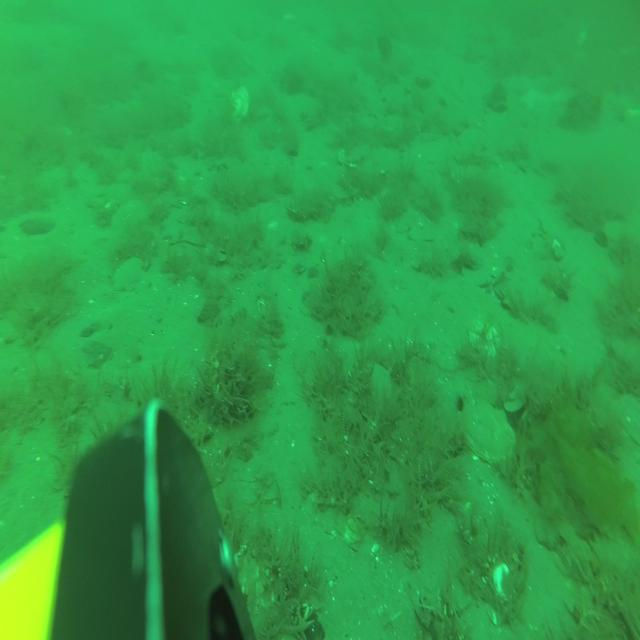scallop: (466, 402, 516, 465), (359, 363, 391, 422), (613, 390, 640, 445), (469, 319, 500, 359), (112, 258, 144, 293), (229, 86, 250, 123)
